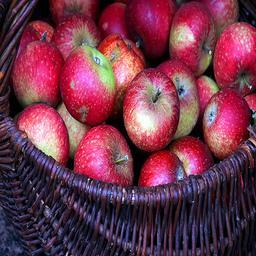apple: (123, 67, 180, 149), (59, 46, 115, 126), (72, 123, 135, 188), (166, 2, 218, 75), (10, 42, 64, 110), (15, 103, 70, 164), (156, 60, 200, 136), (211, 20, 256, 93), (203, 88, 251, 156), (97, 34, 145, 101), (124, 1, 175, 63), (52, 13, 101, 59), (167, 136, 214, 176), (136, 150, 179, 188)
